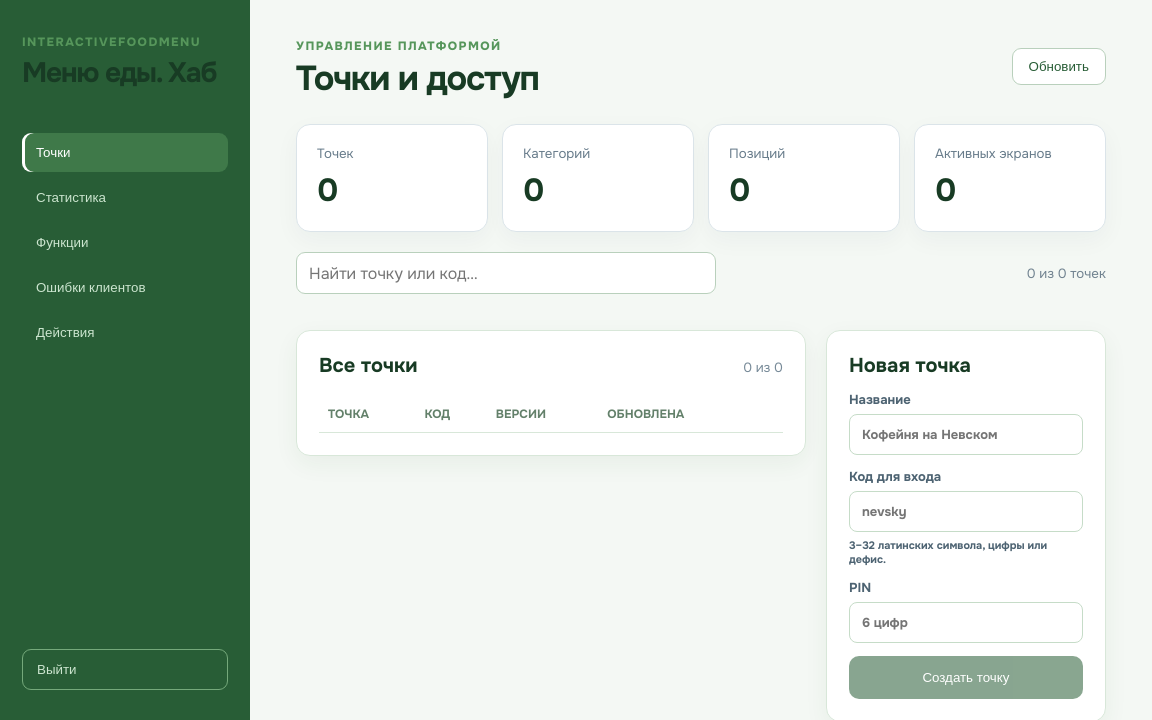
Scenario: Hub action ordering › ignores the result of creating a venue after logout
expect the heading "Новая точка" is shown: met, box [849,353,971,378]
Type "Новая точка" into the field labelled "Название" at (966, 434), box [849,414,1083,455]
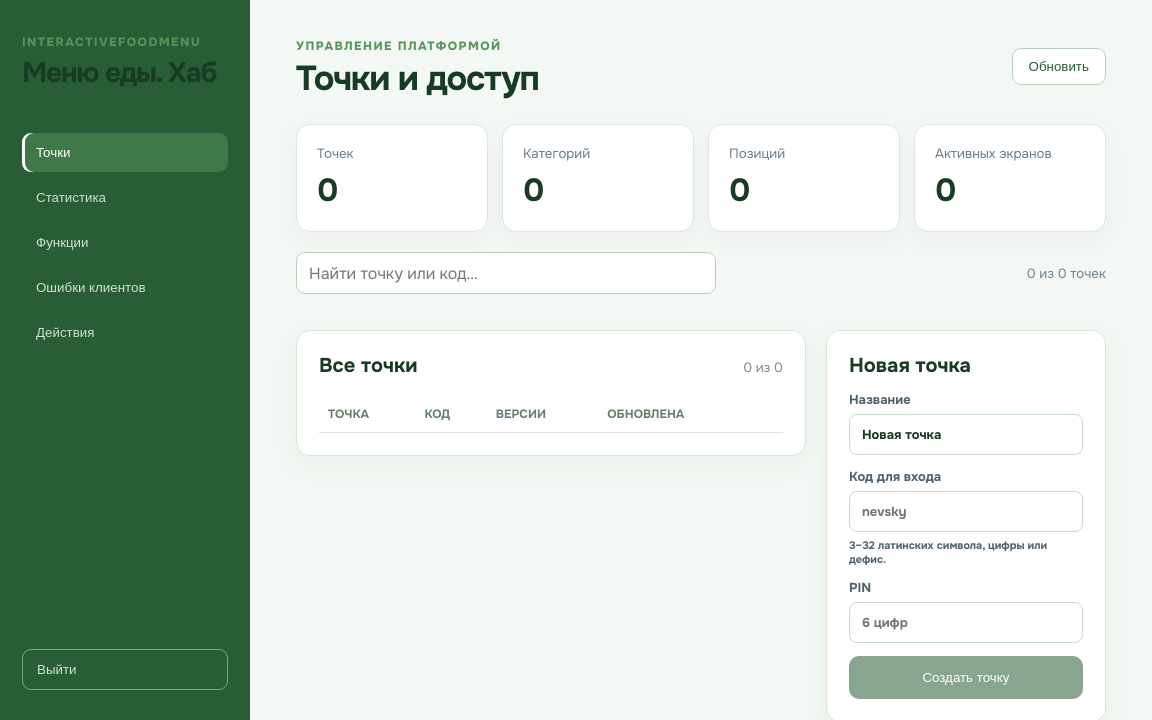
Type "new-venue" into the field with placeholder "nevsky" at (966, 512), box [849,491,1083,532]
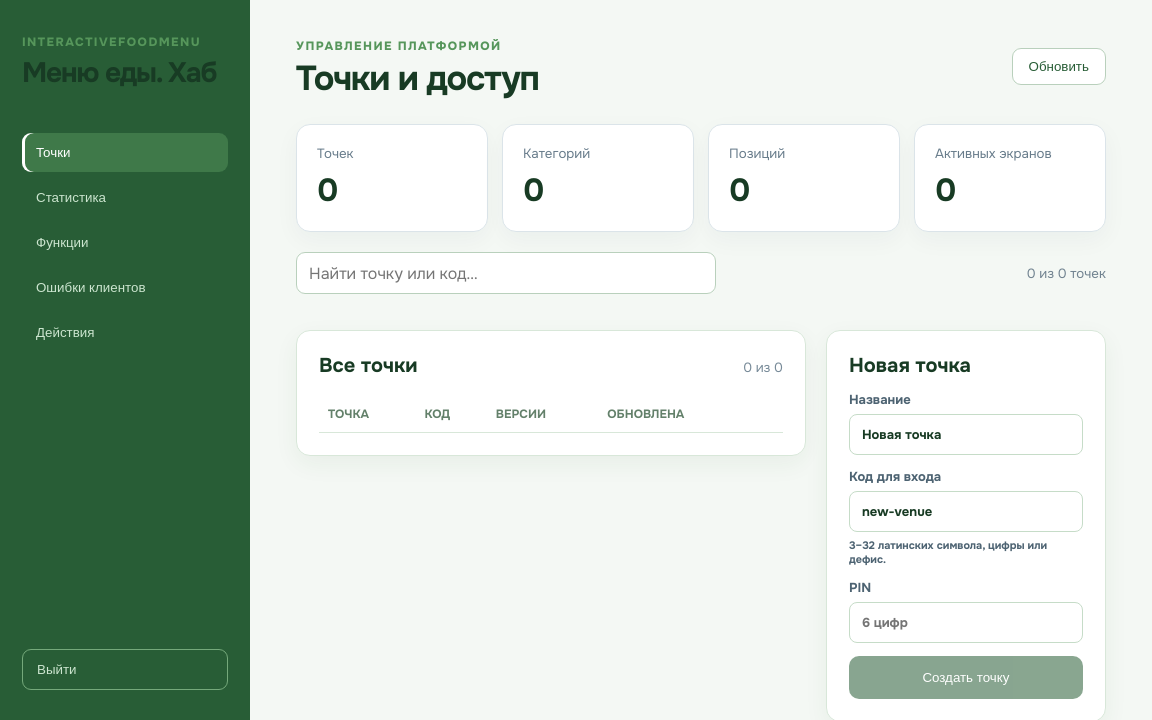
Type "123456" into the password field labelled "PIN" at (966, 622), box [849,602,1083,643]
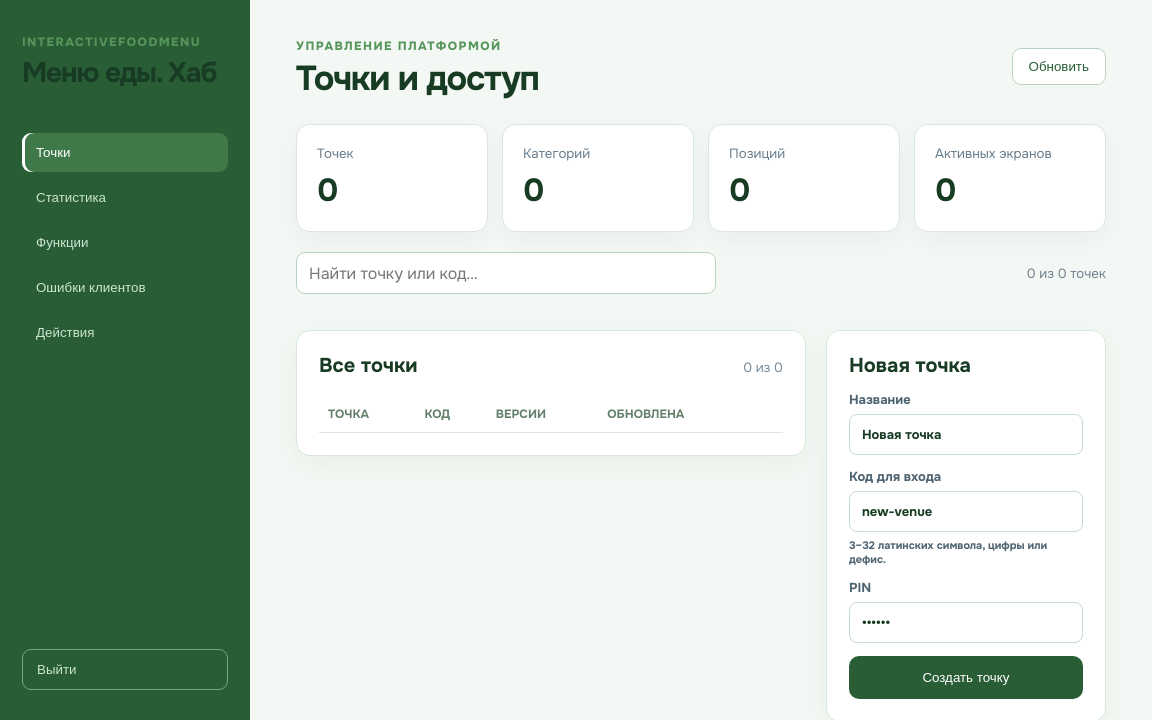
Click the button "Создать точку" at (966, 678), box [849,656,1083,699]
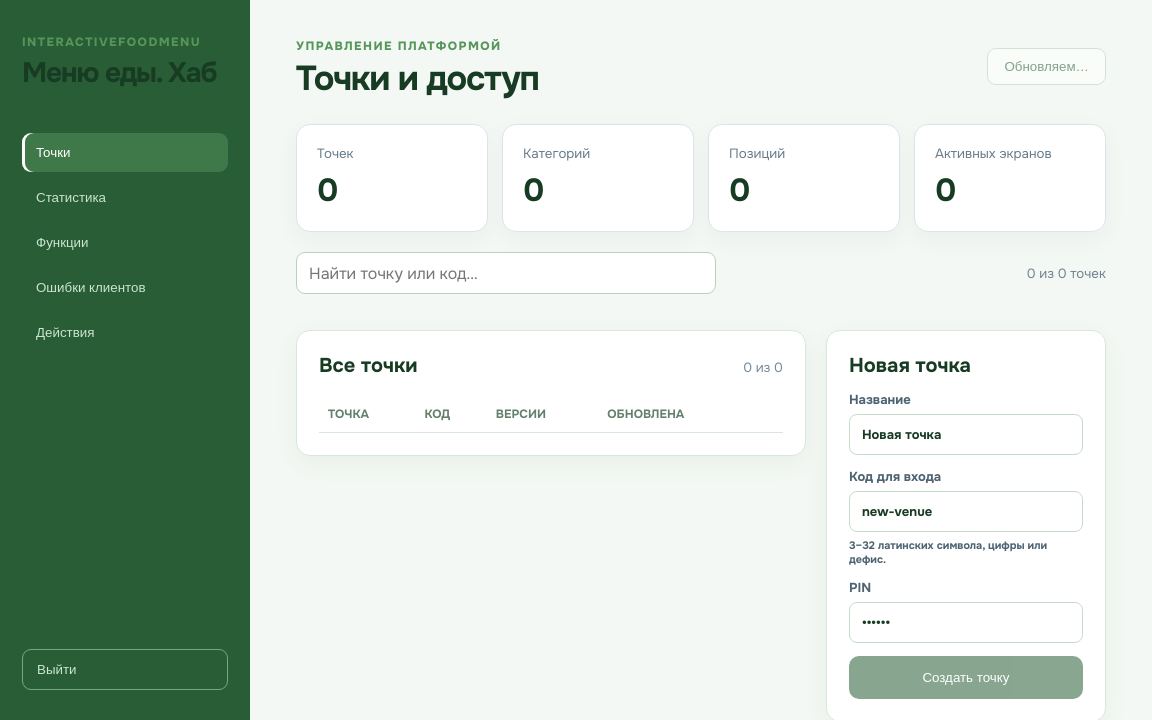
Click the button "Выйти" at (125, 670), box [22,649,228,690]
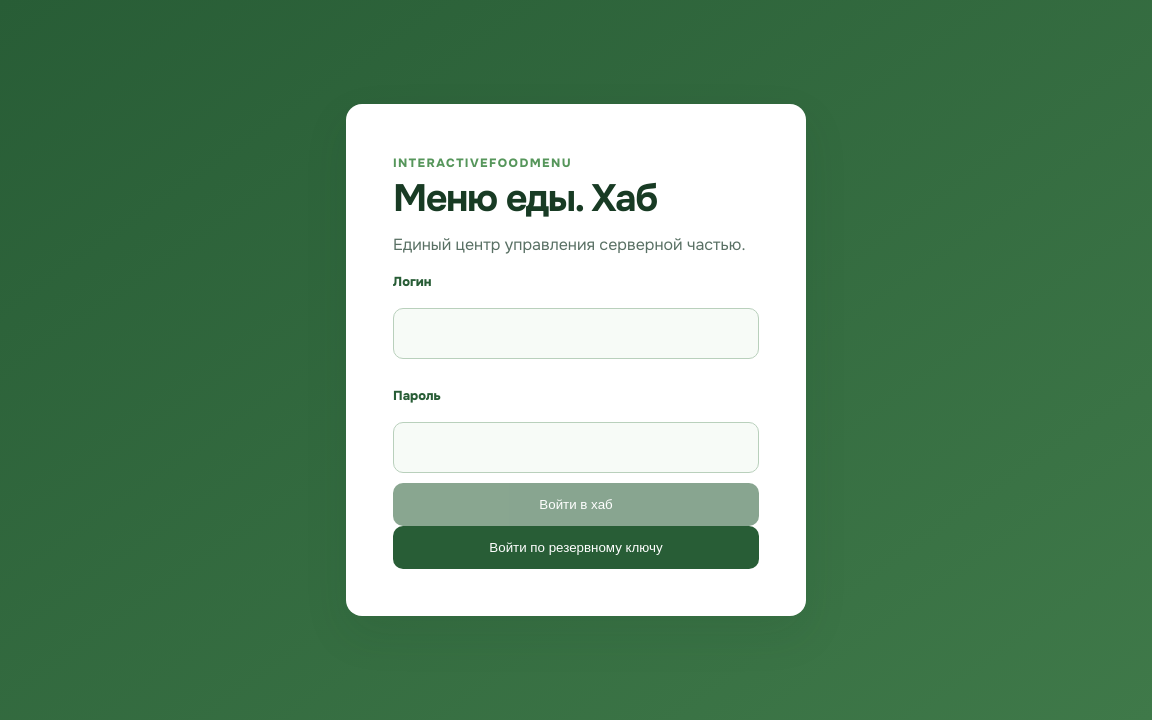
expect the button "Войти в хаб" is shown: met, box [393,483,759,526]
